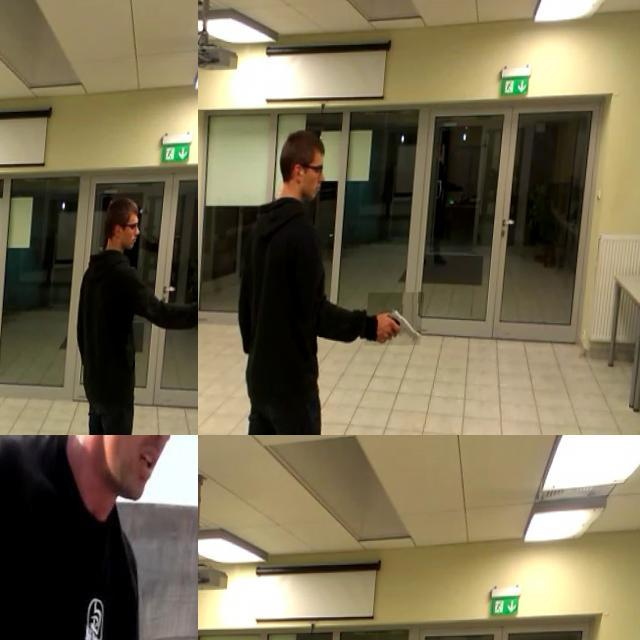gun-knife-thesis - v11 Yolov5 augmented: (372, 293, 431, 346)
